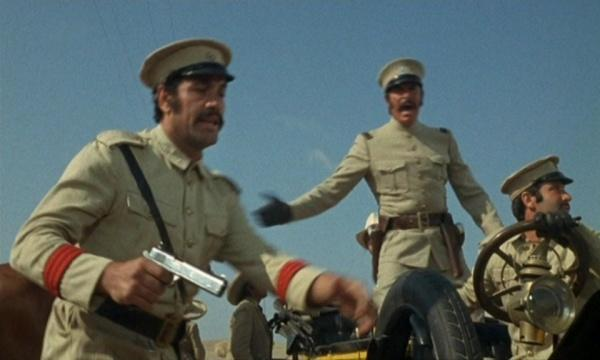Gun: (145, 246, 228, 296)
